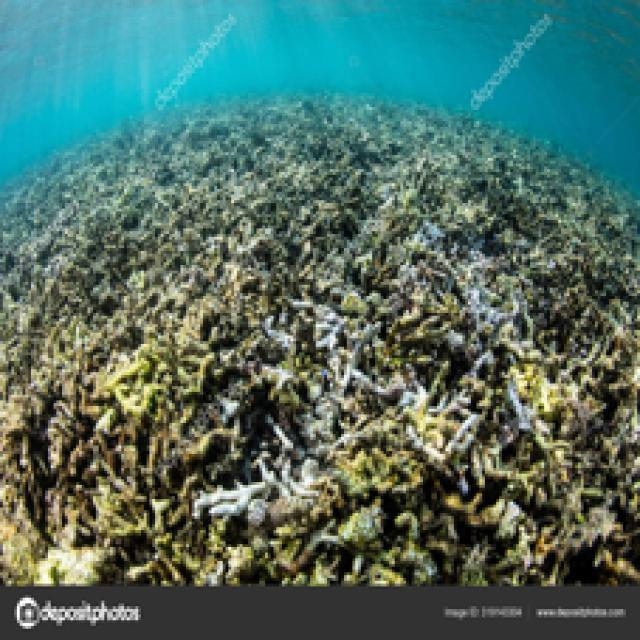Dead Coral: (7, 119, 637, 589), (163, 256, 474, 545)
